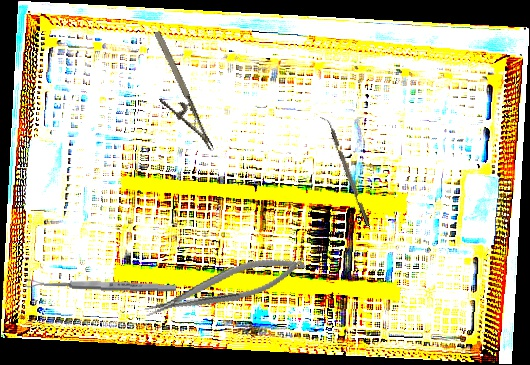Chopper: (320, 113, 370, 229)
Needle Holder: (139, 247, 311, 325), (134, 29, 215, 162)
Surgical Spoon: (25, 277, 177, 294)
